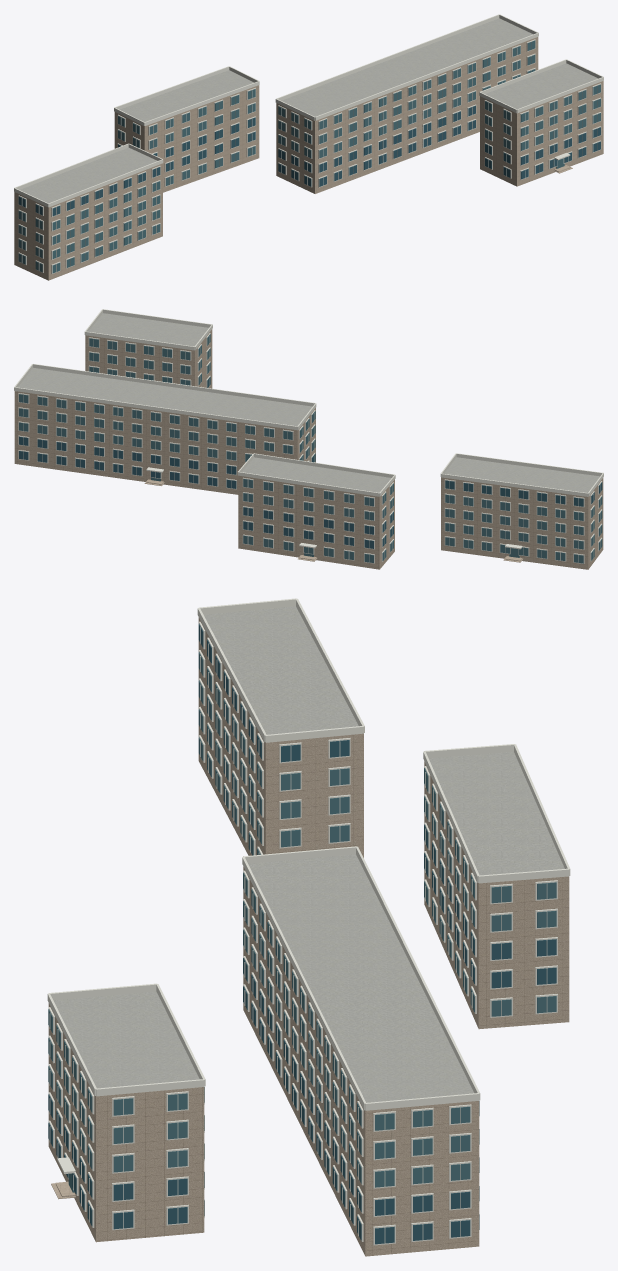
The model's file is chunk-n3-p0.glb.
3 views of the same model, one above another, from view 1: azimuth 30°, elevation 25°; view 2: azimuth 150°, elevation 25°; view 3: azimuth 270°, elevation 25° (orthographic). The views are drawn at different scales.
Parts seen in each view (by area): view 1: chunk-n3-p0; view 2: chunk-n3-p0; view 3: chunk-n3-p0.
Part boxes in pixels (left/top/right/bottom): chunk-n3-p0: left=14, top=14, right=603, bottom=280; chunk-n3-p0: left=14, top=309, right=603, bottom=569; chunk-n3-p0: left=47, top=598, right=570, bottom=1256.
Bounding box in the file's own units: 131 × 21.62 × 55.08.
5 materials, 2 textured.
